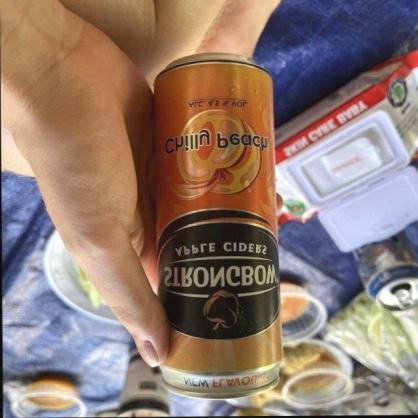can: (152, 55, 281, 403)
